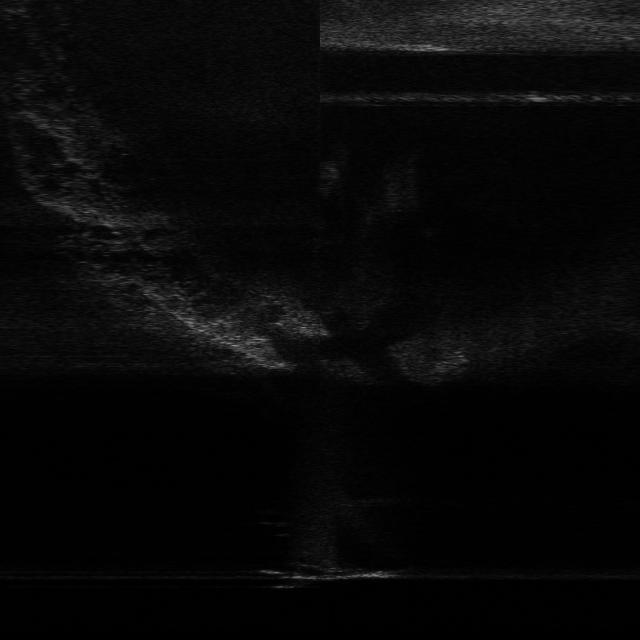plane: (254, 560, 416, 589)
